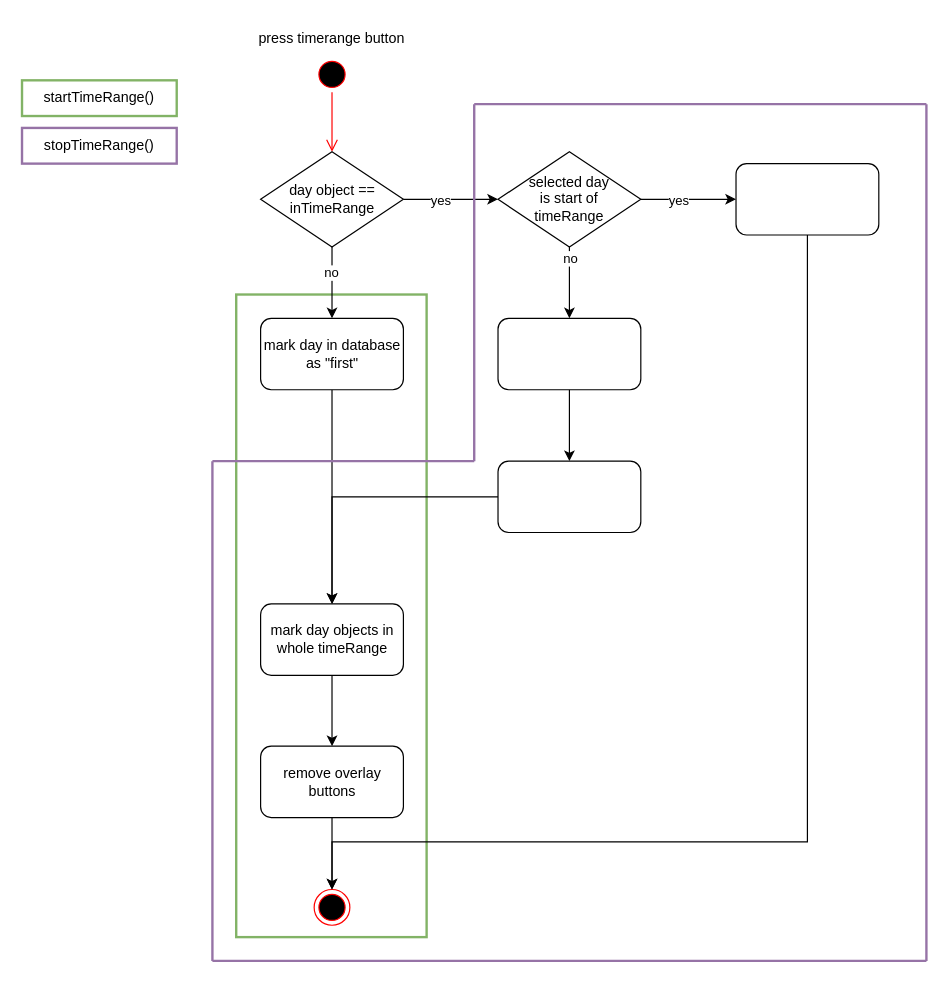
This 948x983 diagram has some shape labels left out. Each missing label, with the centre of its shape:
delete other "end" day of this timeRange: (569,496)
delete whole timeRange: (807,198)
mark day in database as "last": (569,353)
